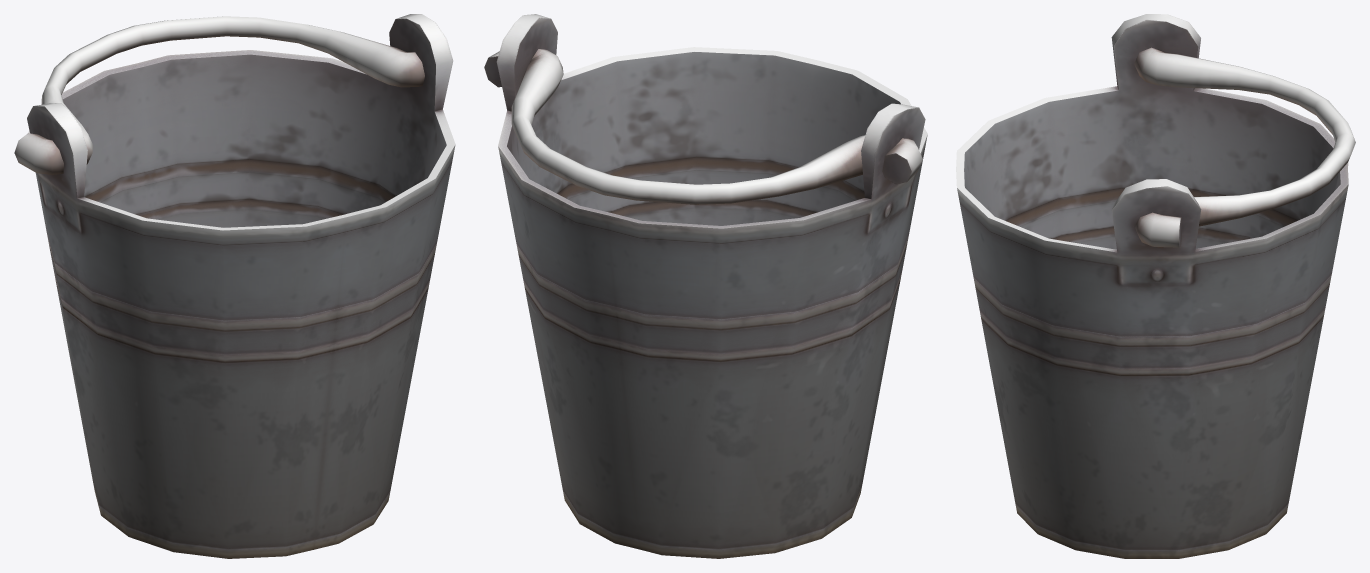
File: BucketMetallic01_1.FBX
The picture shows the model from 3 angles, left to right: view 1: azimuth 30°, elevation 25°; view 2: azimuth 150°, elevation 25°; view 3: azimuth 270°, elevation 25°; orthographic projection. The views are drawn at different scales.
Parts seen in each view (by area): view 1: BucketMetallic01_1; view 2: BucketMetallic01_1; view 3: BucketMetallic01_1.
Boxes of the visible parts, x1=… form: BucketMetallic01_1: x1=14, y1=14, x2=455, y2=558; BucketMetallic01_1: x1=484, y1=14, x2=927, y2=558; BucketMetallic01_1: x1=956, y1=14, x2=1355, y2=558.
Size of what is drawn, in the model's own units: 0.4993 by 0.4838 by 0.4357.
